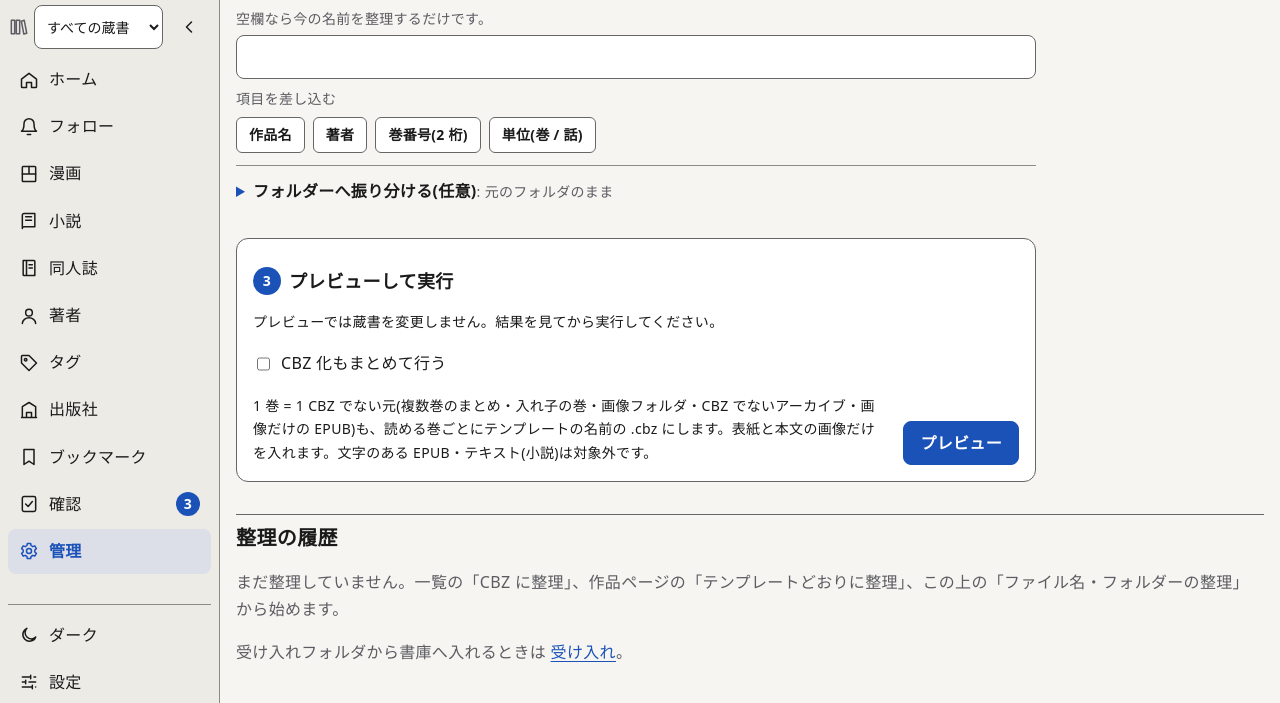
Test case: 範囲指定の整理 › CBZ 化は元と先のパスをリストで出す
(page scrolled)
Click the checkbox labelled "CBZ 化もまとめて行う" at (264, 364), box [257,354,270,374]
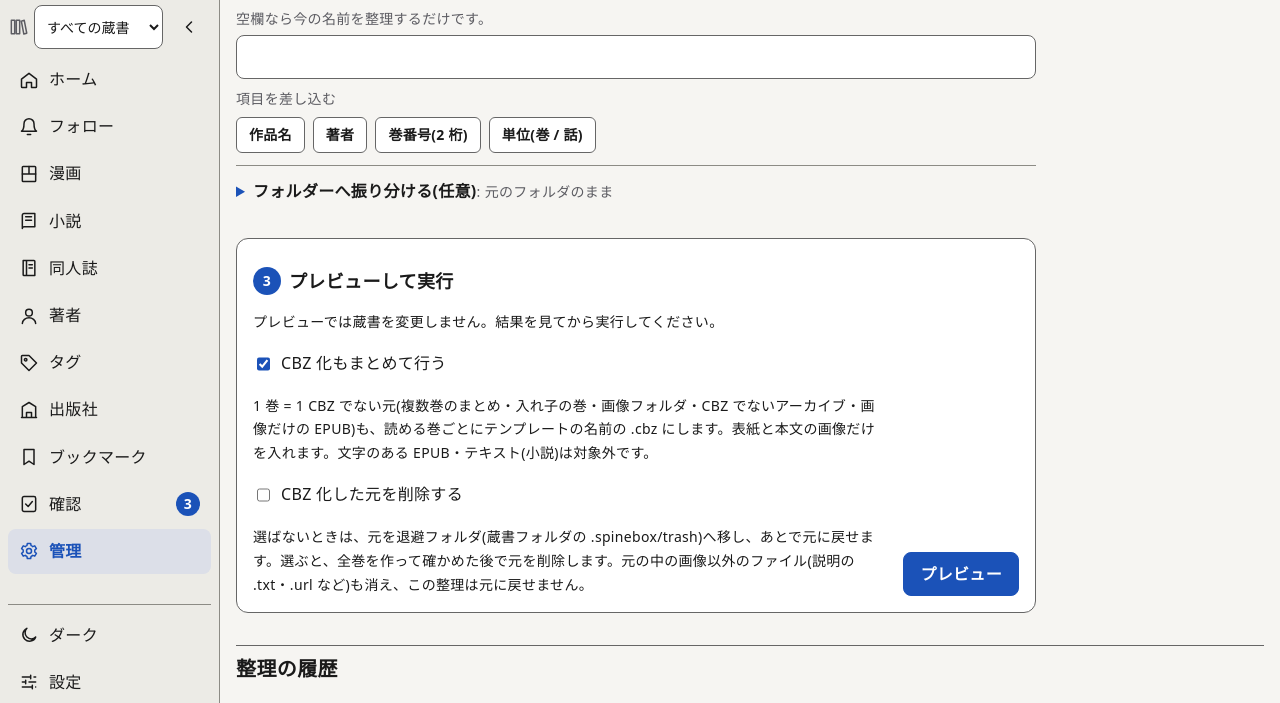
Click the button "プレビュー" at (961, 574), box [903,552,1019,596]
(page scrolled)
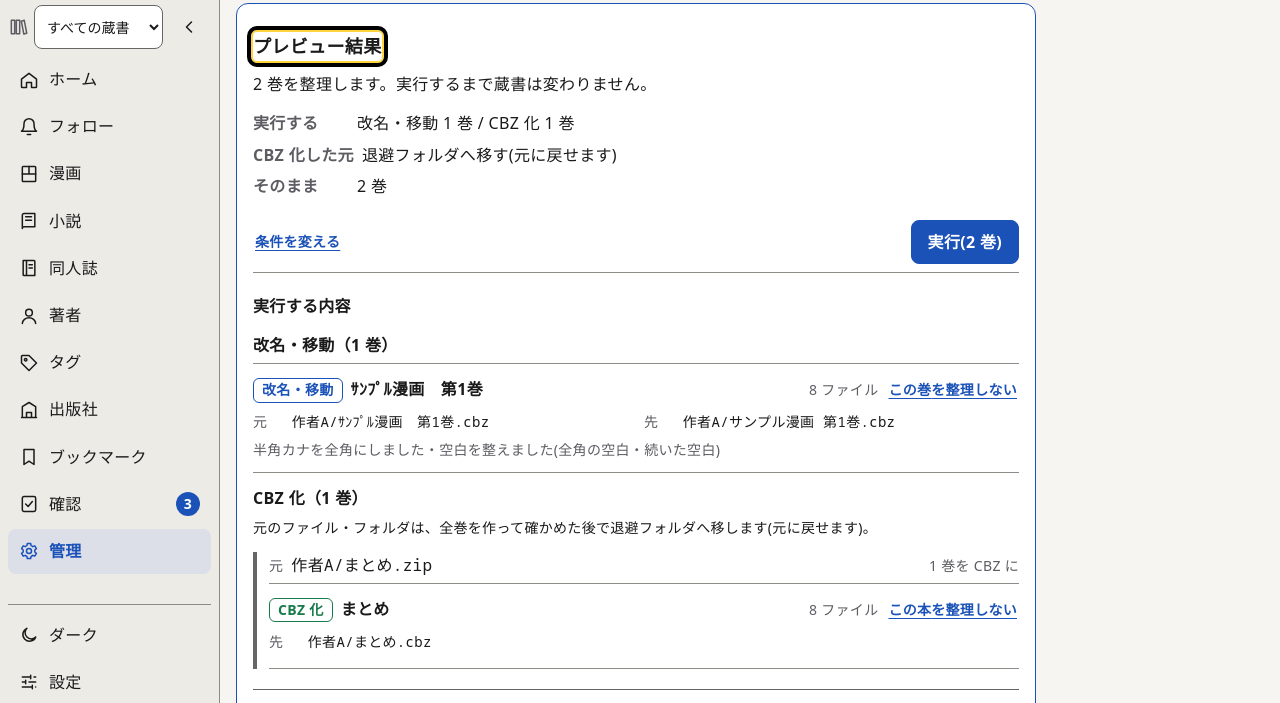
expect the text "作者A/まとめ.cbz" is shown: met, box [308,632,432,651]
